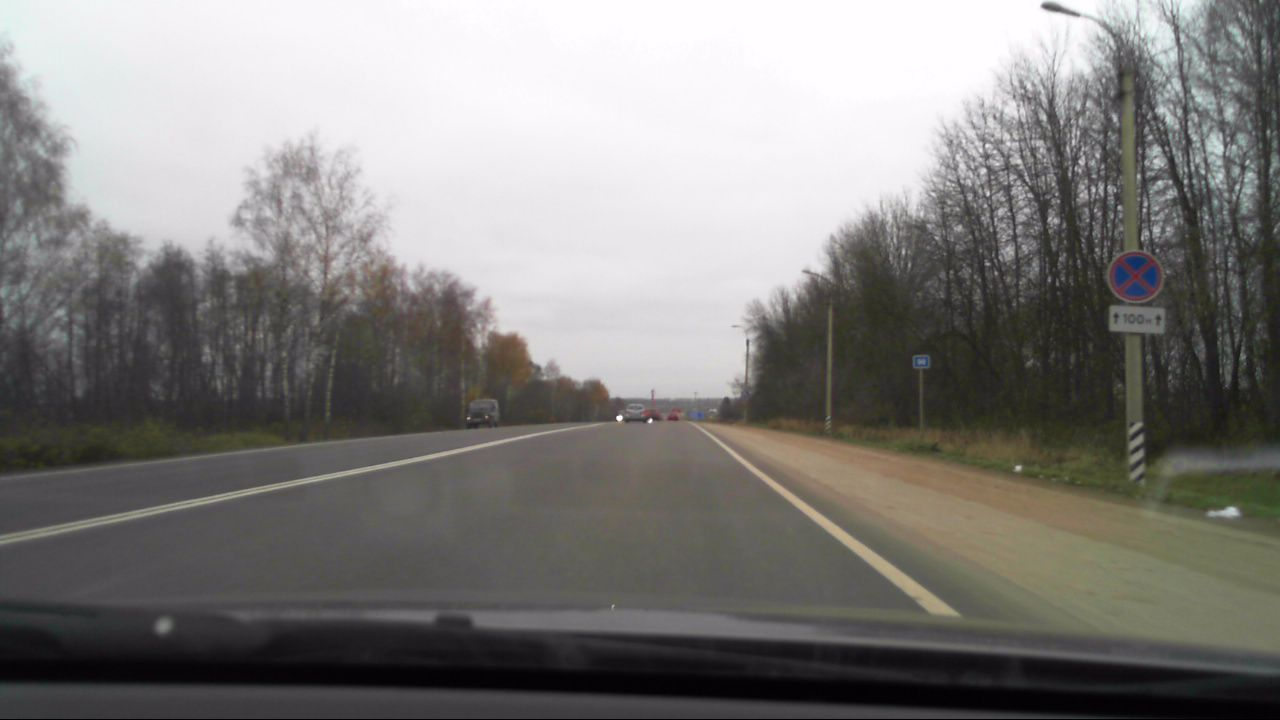No Parking: (1104, 249, 1165, 304)
